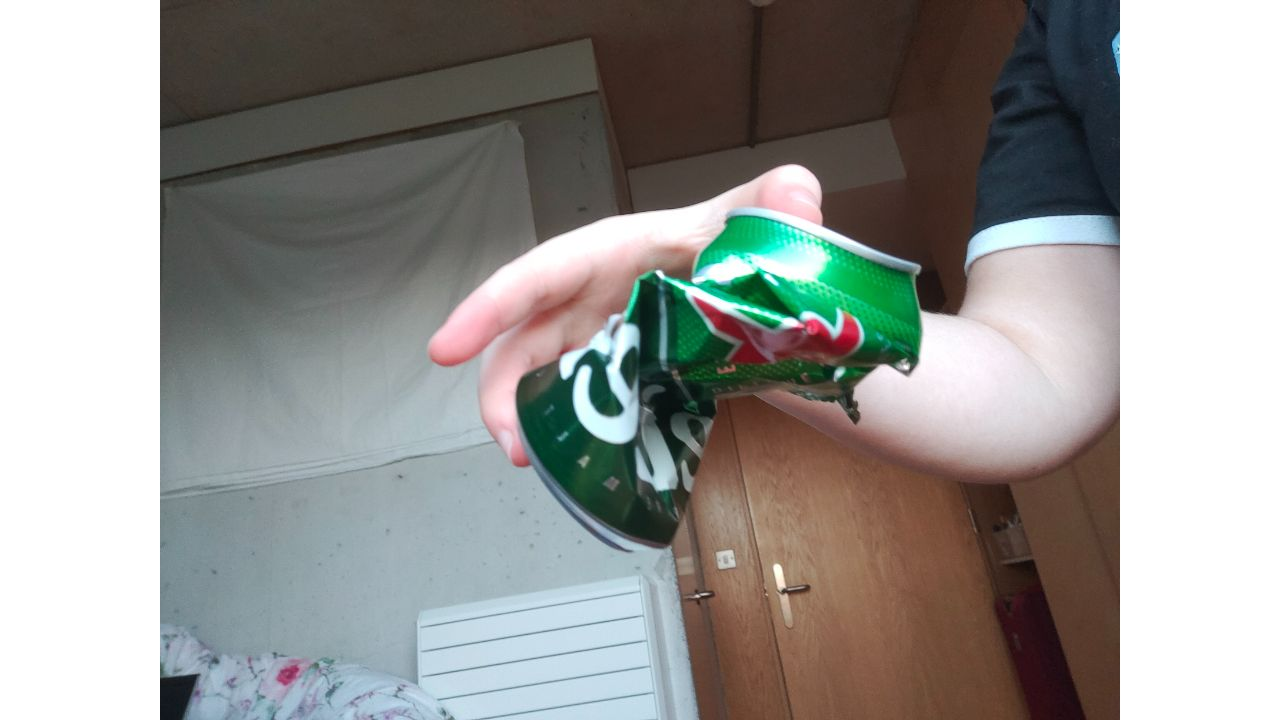Can: (510, 207, 923, 555)
